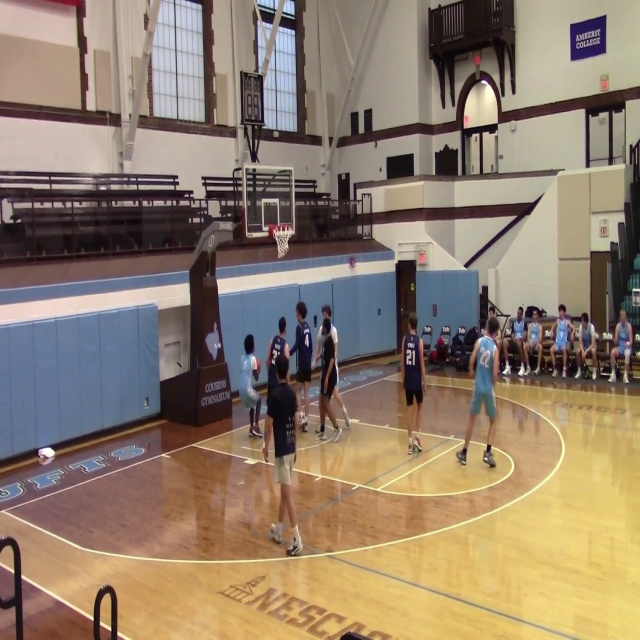Basketball: (274, 355, 289, 377), (37, 447, 55, 465), (38, 447, 55, 460), (250, 357, 259, 372)
